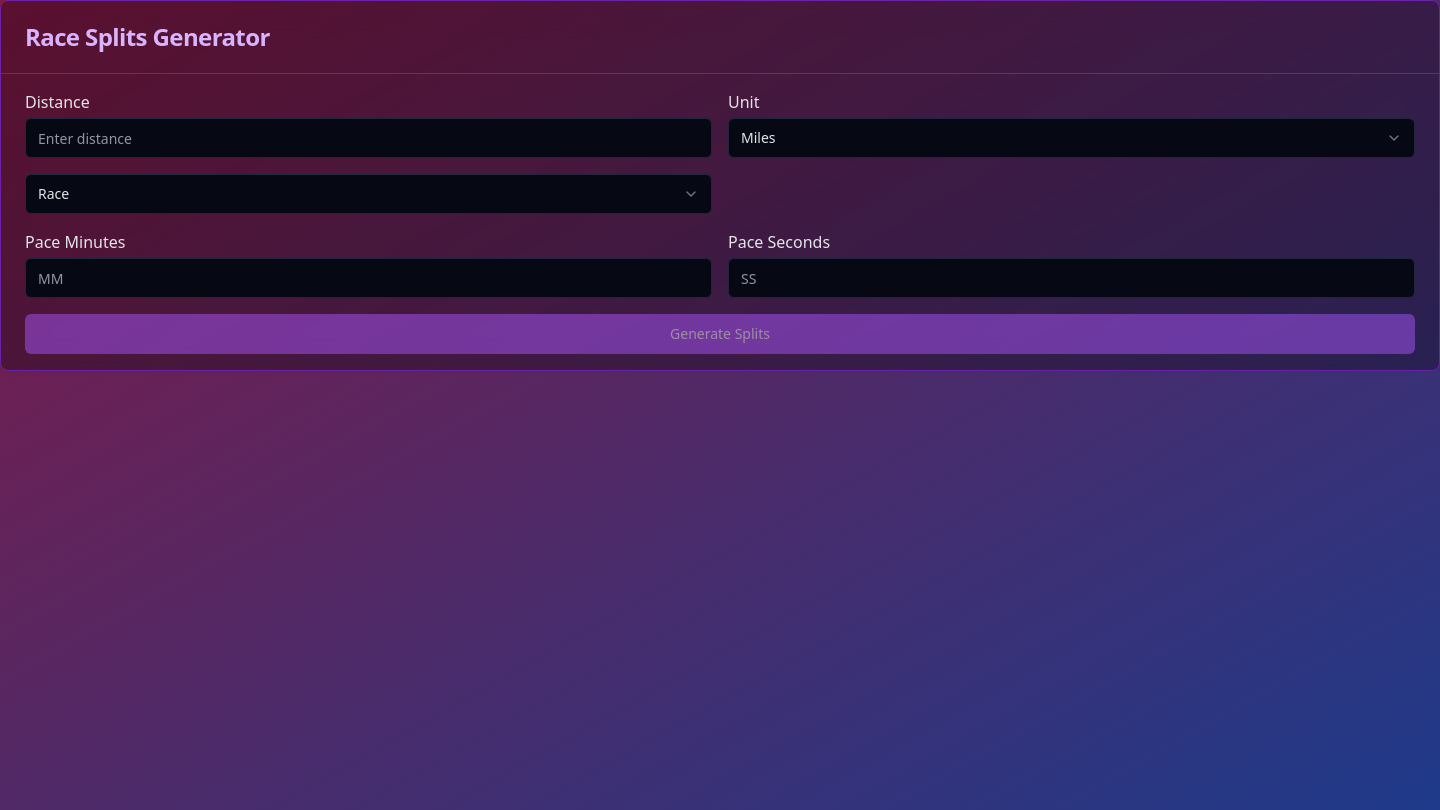
Test case: RaceSplitsGenerator › generates splits when all required fields are filled
Type "5" into the number field labelled "Distance" at (368, 138), box [25,118,712,158]
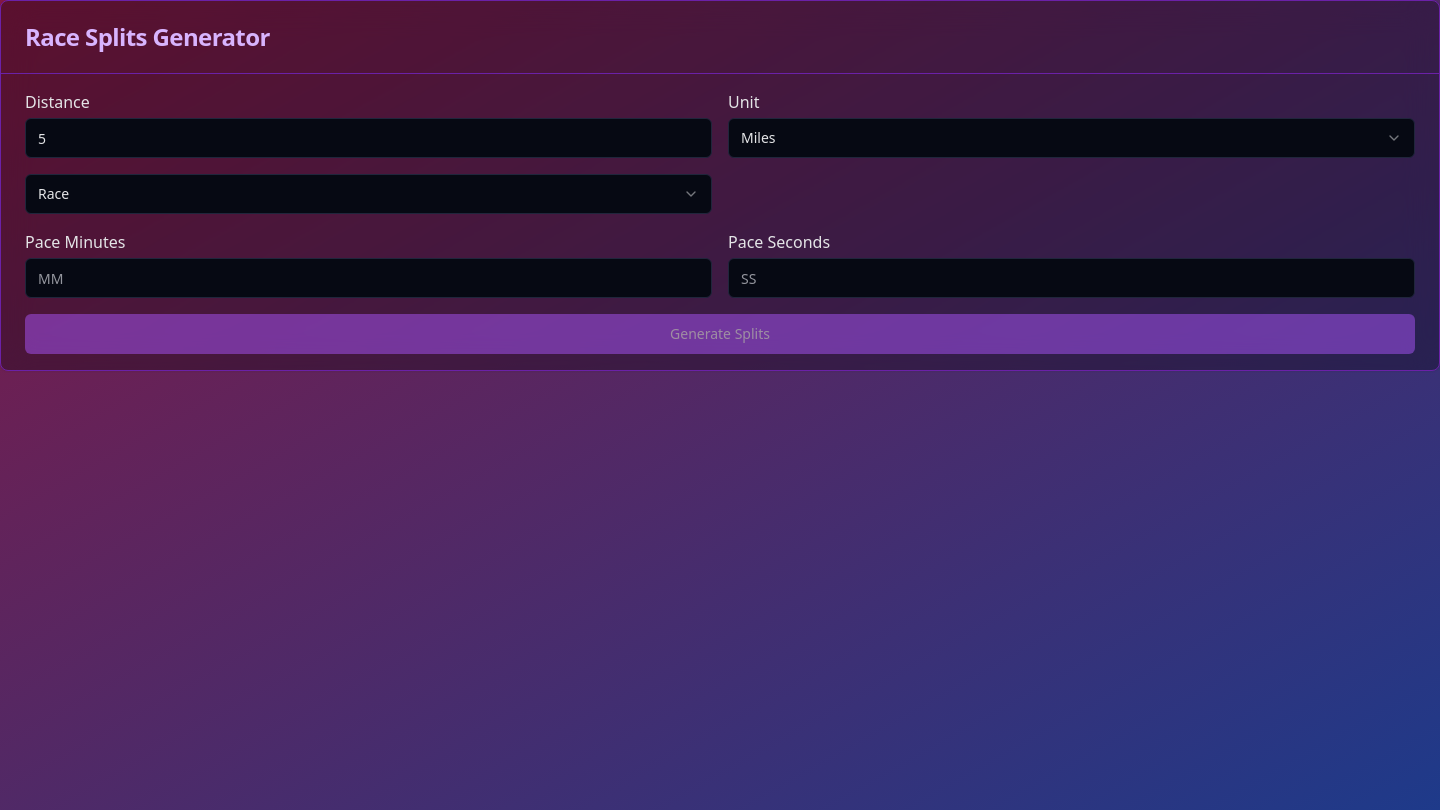
Type "8" into the number field labelled "Pace Minutes" at (368, 278), box [25,258,712,298]
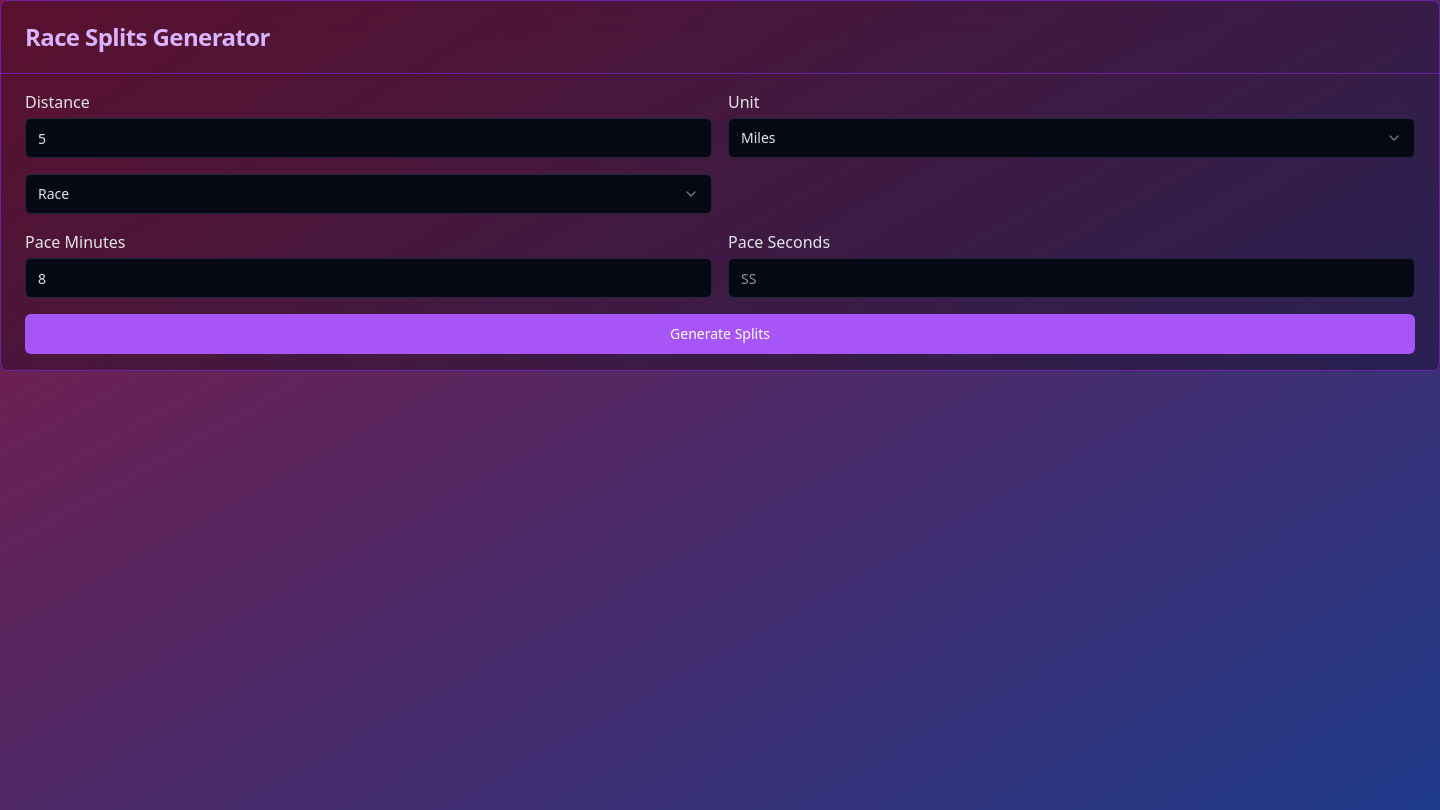
Type "30" into the number field labelled "Pace Seconds" at (1072, 278), box [728,258,1415,298]
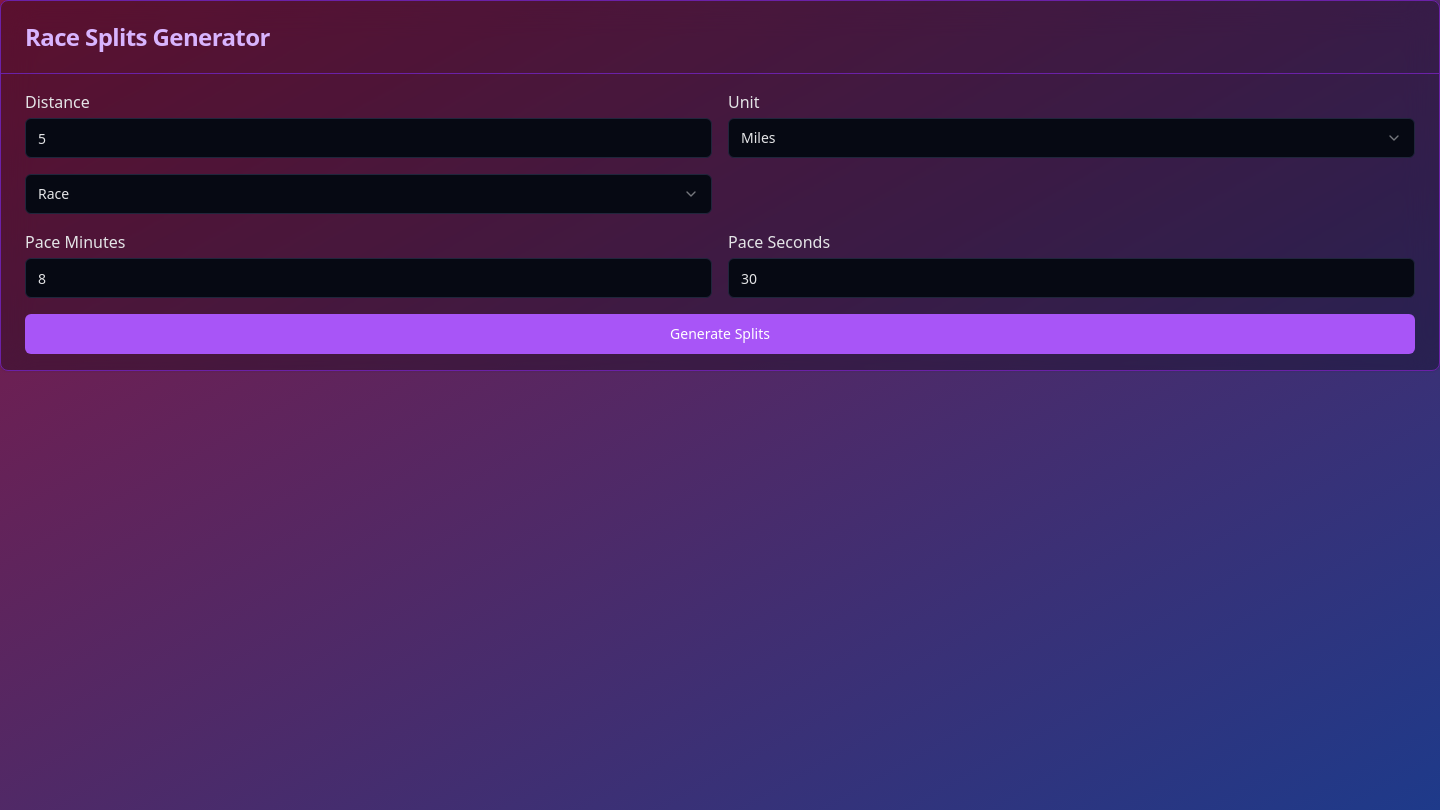
Click the button "Generate Splits" at (720, 334), box [25,314,1415,354]
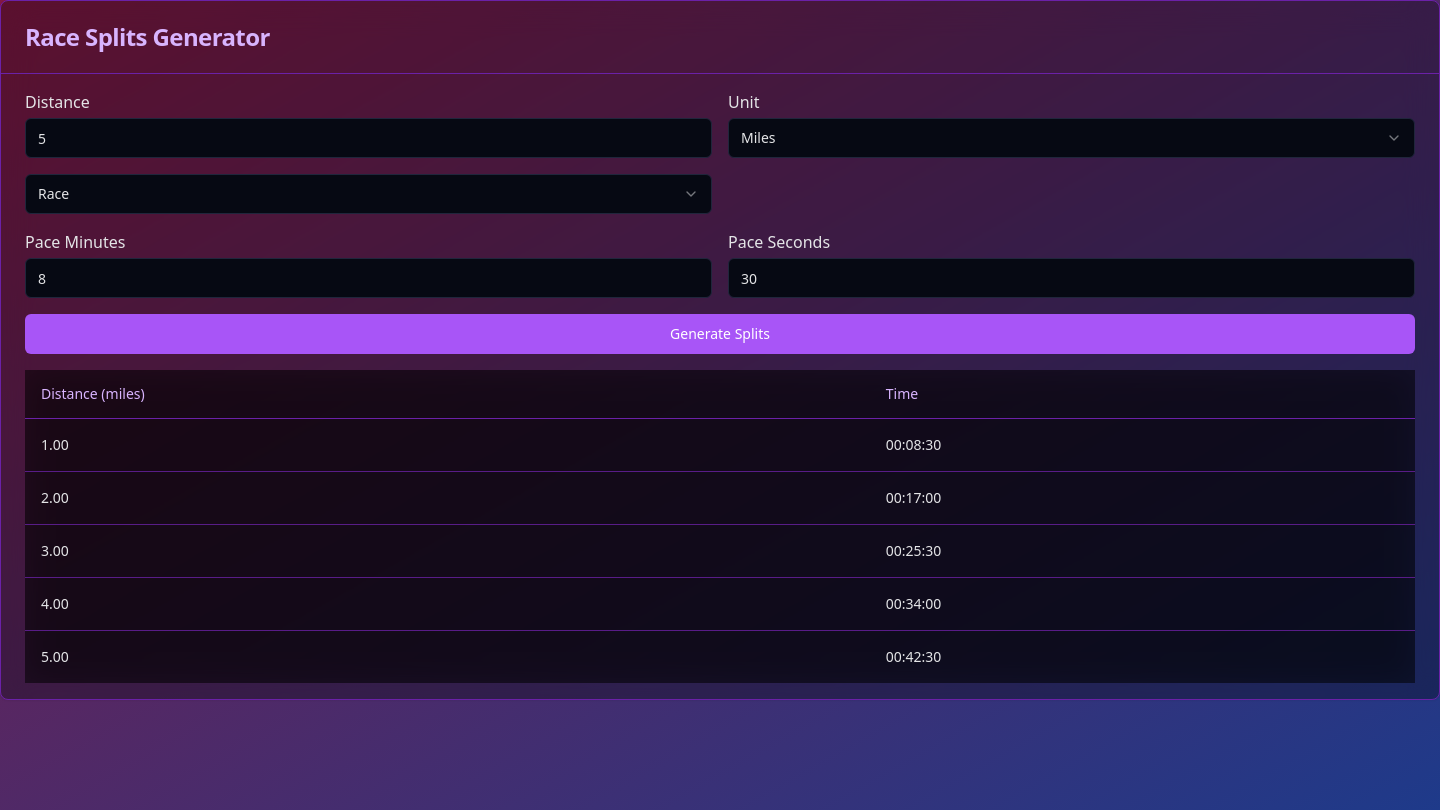
Now the table is shown, box [25,370,1415,682]
